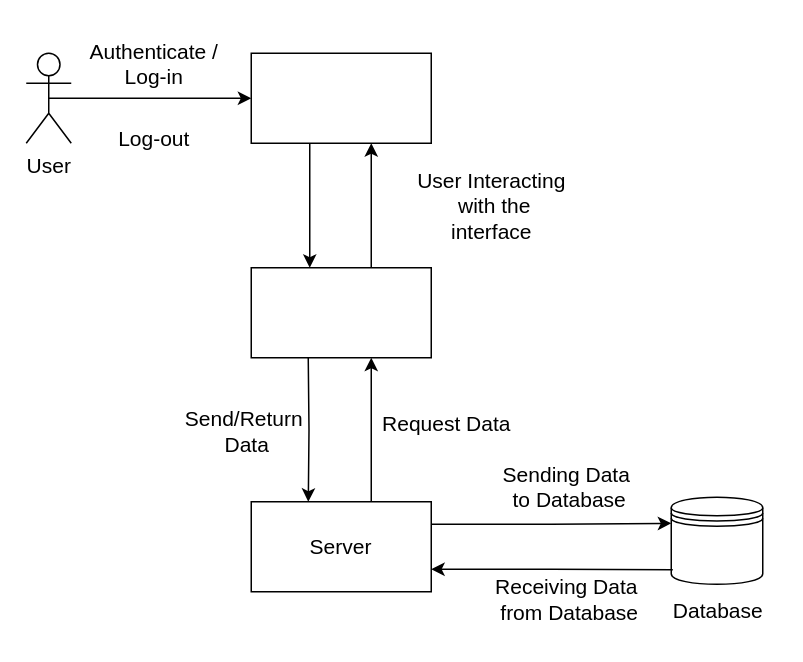
This 803x662 diagram has some shape labels left out. Here are the shapes that lost their labels. From the top down, the centre of each, then its label:
pixel 340 97: Login
pixel 340 312: User Interface
